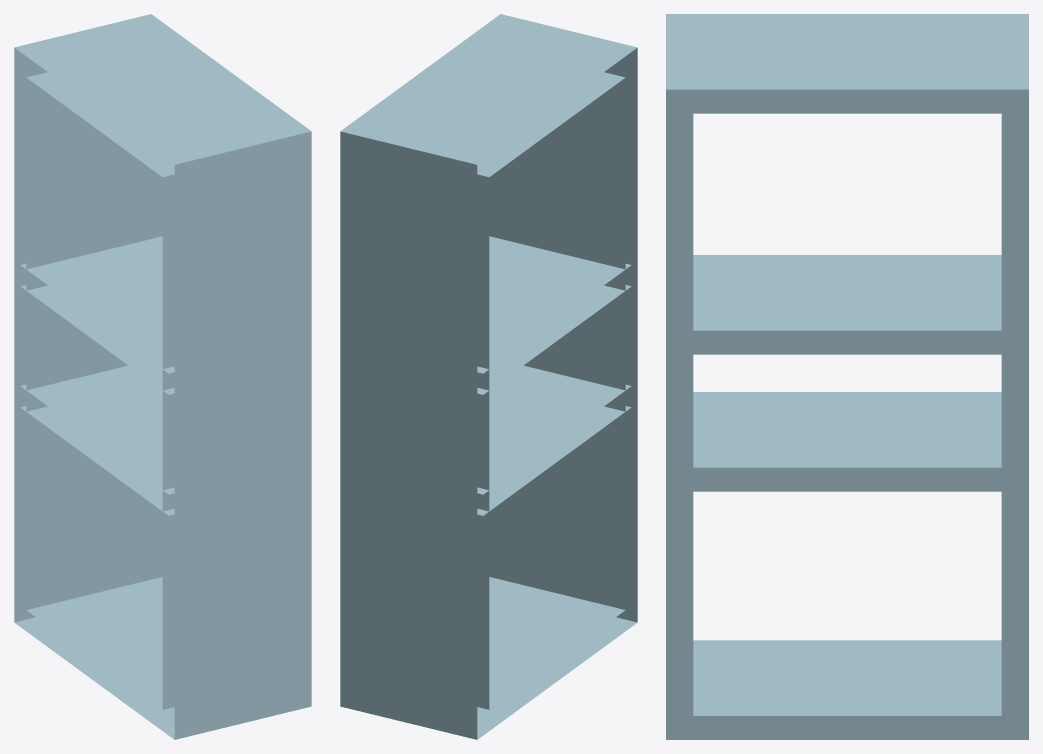
Rendered from Bedroom3_shelf1.fbx.
The picture shows the model from 3 angles, left to right: view 1: azimuth 30°, elevation 25°; view 2: azimuth 150°, elevation 25°; view 3: azimuth 270°, elevation 25°; orthographic projection. The views are drawn at different scales.
Visible parts, largest first — view 1: Bedroom3_shelf1; view 2: Bedroom3_shelf1; view 3: Bedroom3_shelf1.
Boxes of the visible parts, x1,y1,x2,y2 form: Bedroom3_shelf1: (14, 14, 311, 739); Bedroom3_shelf1: (340, 14, 637, 739); Bedroom3_shelf1: (666, 14, 1028, 739).
Size of the model in its own units: 36.38 by 146 by 73.73.
